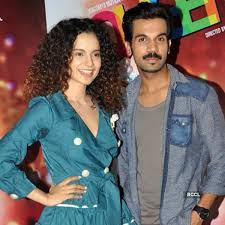Bad: (1, 2, 225, 225)
